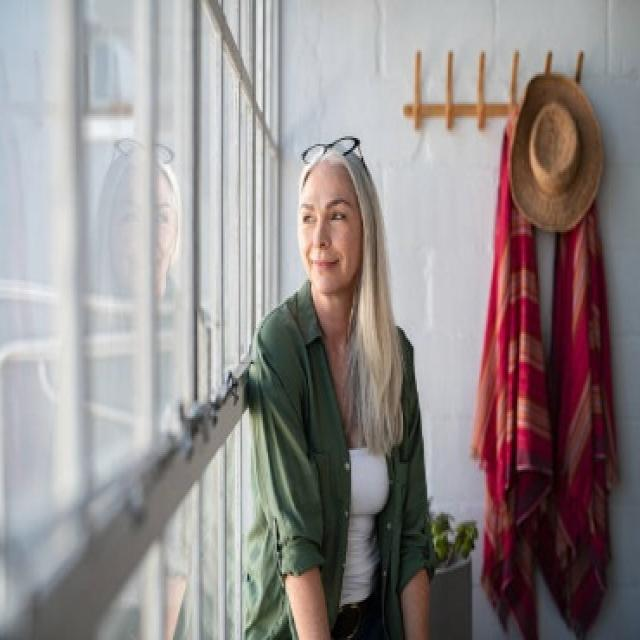adult: (240, 132, 431, 640)
